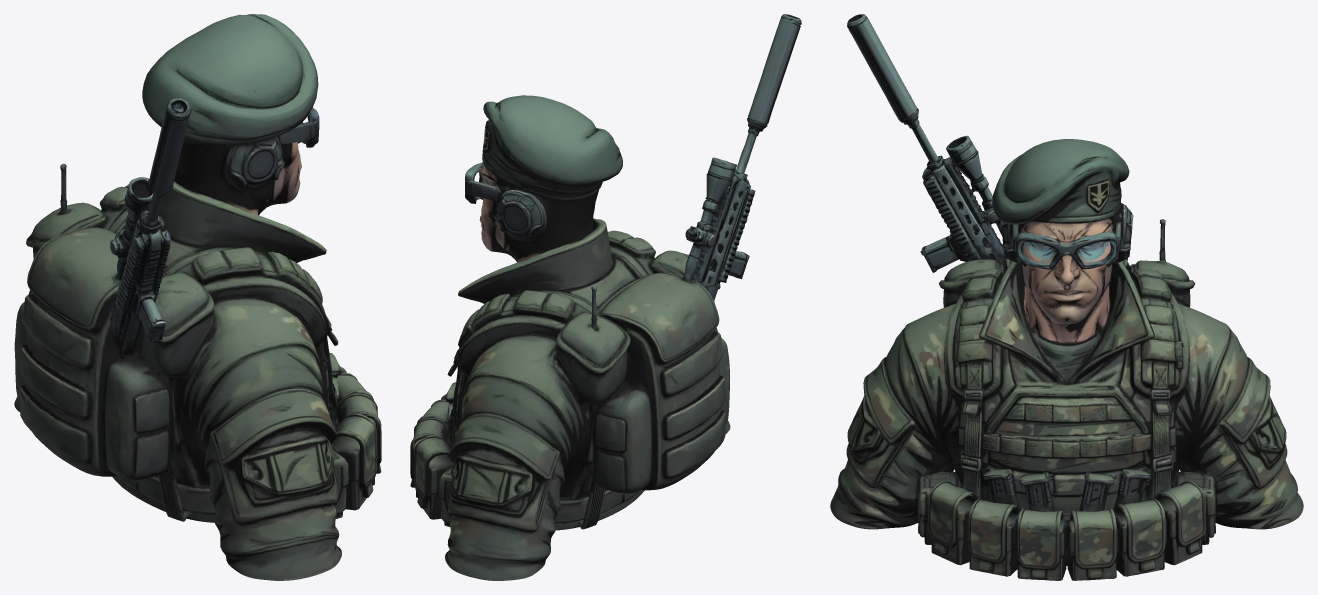
File: sniperx3dskin1.glb
3 views of the same model, side by side, from view 1: azimuth 30°, elevation 25°; view 2: azimuth 150°, elevation 25°; view 3: azimuth 270°, elevation 25° (orthographic). The views are drawn at different scales.
Parts seen in each view (by area): view 1: tripo_node_f53c61d4-9e11-403d-9f39-245a61e54c20; view 2: tripo_node_f53c61d4-9e11-403d-9f39-245a61e54c20; view 3: tripo_node_f53c61d4-9e11-403d-9f39-245a61e54c20.
Boxes of the visible parts, bbox=[...] form: tripo_node_f53c61d4-9e11-403d-9f39-245a61e54c20: bbox=[14, 14, 381, 580]; tripo_node_f53c61d4-9e11-403d-9f39-245a61e54c20: bbox=[410, 14, 801, 580]; tripo_node_f53c61d4-9e11-403d-9f39-245a61e54c20: bbox=[830, 14, 1303, 580].
Size of the model in its own units: 0.6602 by 1 by 0.9714.
1 material, 1 textured.
